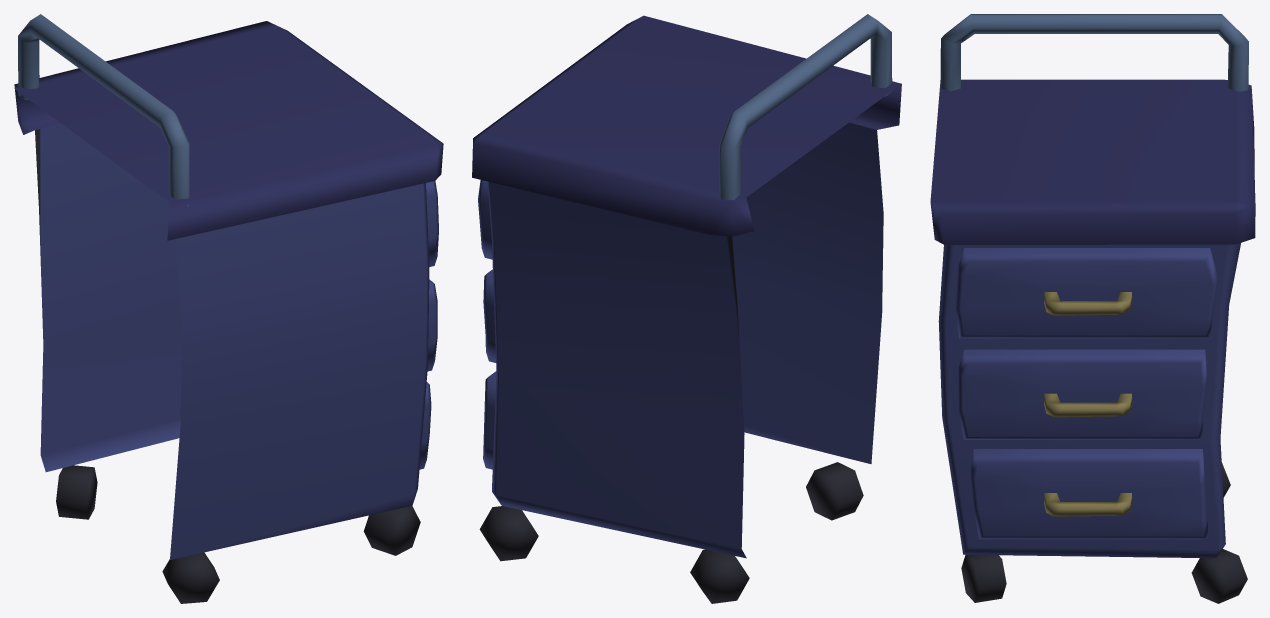
Rendered from TherapyTableSmall.fbx.
3 views of the same model, side by side, from view 1: azimuth 30°, elevation 25°; view 2: azimuth 150°, elevation 25°; view 3: azimuth 270°, elevation 25° (orthographic). The views are drawn at different scales.
Visible parts, largest first — view 1: polySurface4; view 2: polySurface4; view 3: polySurface4.
Boxes of the visible parts, x1=… form: polySurface4: x1=14, y1=14, x2=443, y2=603; polySurface4: x1=472, y1=14, x2=901, y2=603; polySurface4: x1=930, y1=14, x2=1255, y2=603.
Bounding box in the file's own units: 216 × 332 × 206.
